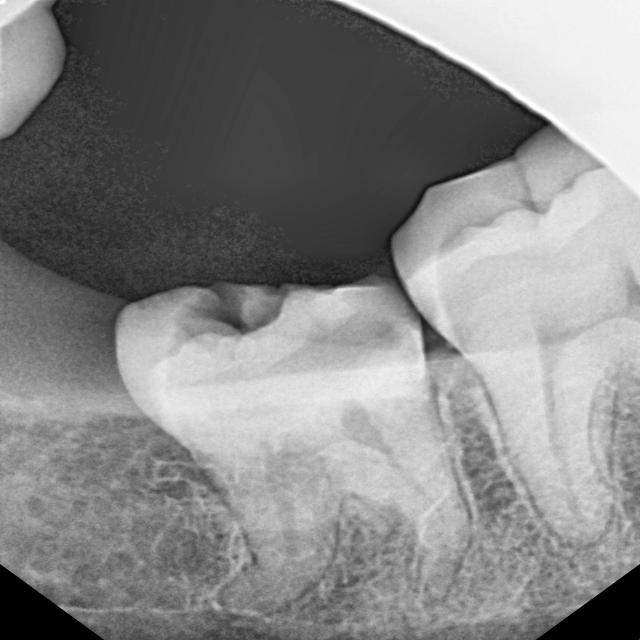Caries: (89, 216, 384, 431)
Normal: (361, 108, 640, 597)
